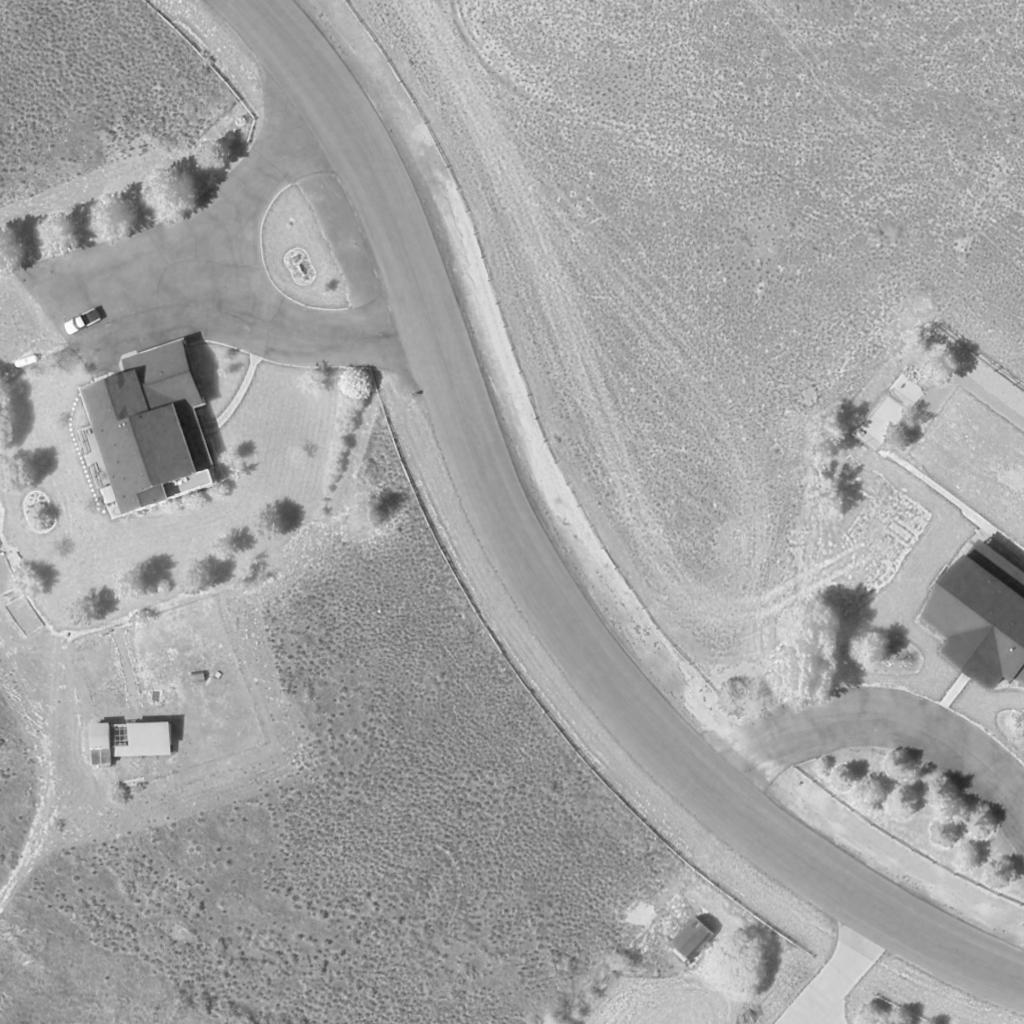vehicle: (61, 308, 103, 336)
